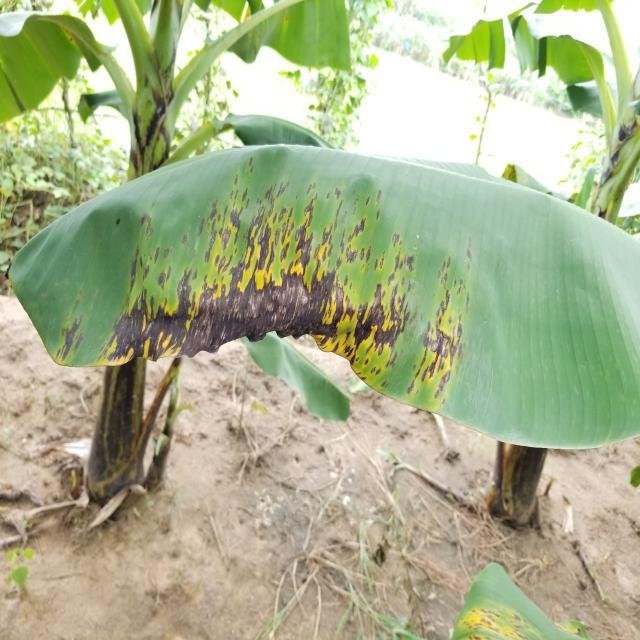Early_rust: (25, 153, 515, 457), (432, 549, 572, 640)
